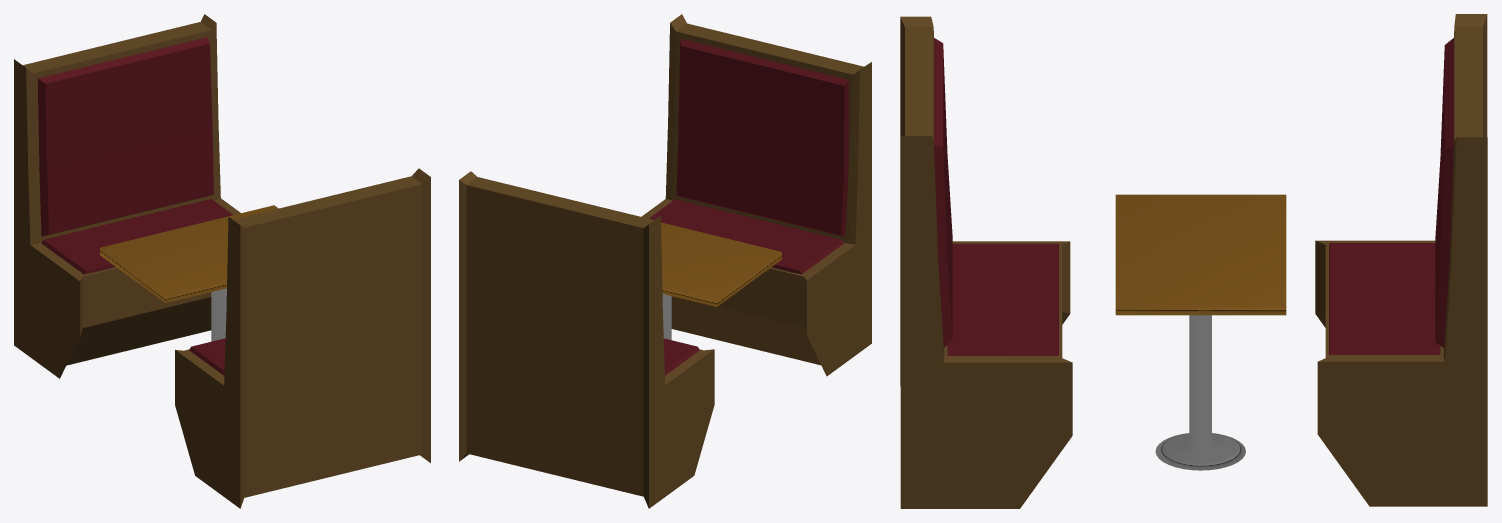
The model's file is Booth.fbx.
The picture shows the model from 3 angles, left to right: view 1: azimuth 30°, elevation 25°; view 2: azimuth 150°, elevation 25°; view 3: azimuth 270°, elevation 25°; orthographic projection. The views are drawn at different scales.
Visible parts, largest first — view 1: Cube, Cube.002, Cylinder.001; view 2: Cube.002, Cube, Cylinder.001; view 3: Cube, Cube.002, Cylinder.001.
Part boxes in pixels (x1=…): Cube: x1=175, y1=168, x2=430, y2=508; Cube.002: x1=14, y1=14, x2=240, y2=378; Cylinder.001: x1=100, y1=205, x2=278, y2=341; Cube.002: x1=459, y1=171, x2=714, y2=508; Cube: x1=641, y1=14, x2=871, y2=376; Cylinder.001: x1=661, y1=222, x2=781, y2=339; Cube: x1=900, y1=16, x2=1072, y2=508; Cube.002: x1=1315, y1=14, x2=1487, y2=506; Cylinder.001: x1=1115, y1=194, x2=1286, y2=470.
Bounding box in the file's own units: 137 × 197 × 279.
